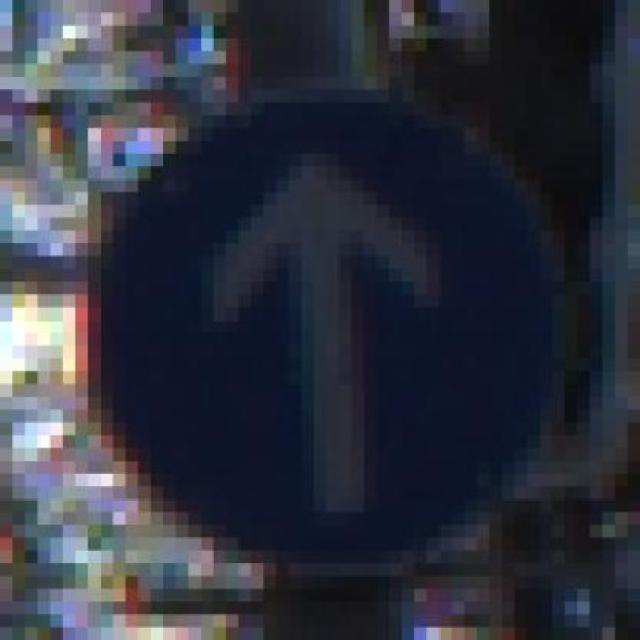Straight Ahead Only: (62, 64, 590, 588)
